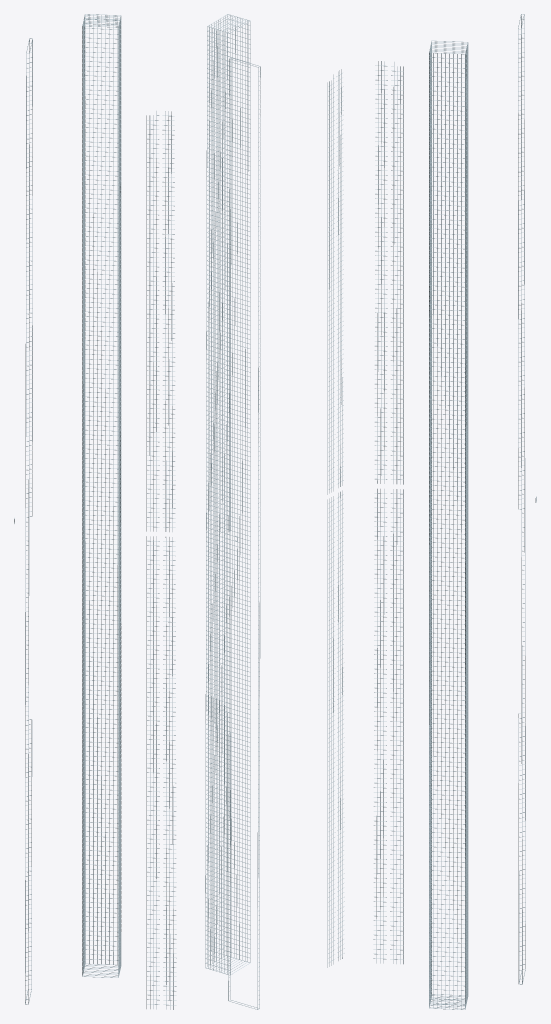
Rendered from lujiazui-10.glb.
3 views of the same model, side by side, from view 1: azimuth 90°, elevation 25°; view 2: azimuth 150°, elevation 25°; view 3: azimuth 270°, elevation 25° (orthographic).
Visible parts, largest first — view 1: source_2865_Mat3d66-1303573-2119-613_part3; view 2: source_2865_Mat3d66-1303573-2119-613_part3; view 3: source_2865_Mat3d66-1303573-2119-613_part3.
Boxes of the visible parts, x1=… form: source_2865_Mat3d66-1303573-2119-613_part3: x1=14, y1=14, x2=176, y2=1009; source_2865_Mat3d66-1303573-2119-613_part3: x1=205, y1=14, x2=344, y2=1009; source_2865_Mat3d66-1303573-2119-613_part3: x1=373, y1=14, x2=536, y2=1009.
Bounding box in the file's own units: 34.05 × 326 × 50.43.
